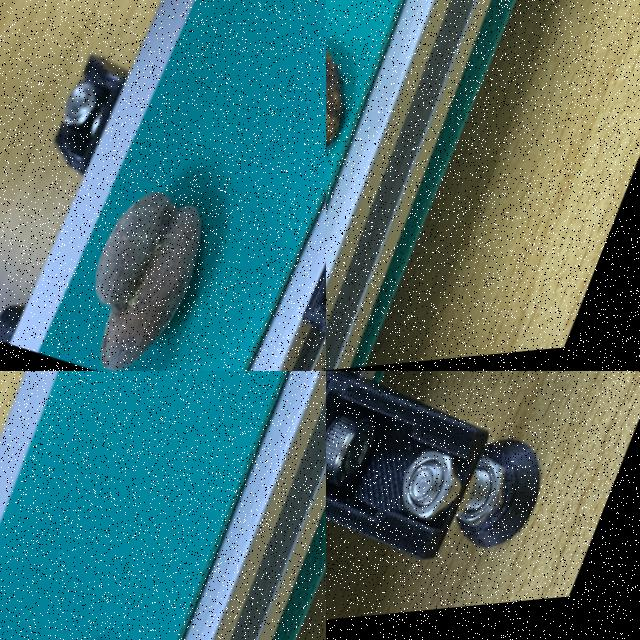Agglomerated_cocoabeans: (53, 41, 313, 370)
Flat_cocoabeans: (326, 0, 447, 279), (0, 552, 196, 639)
